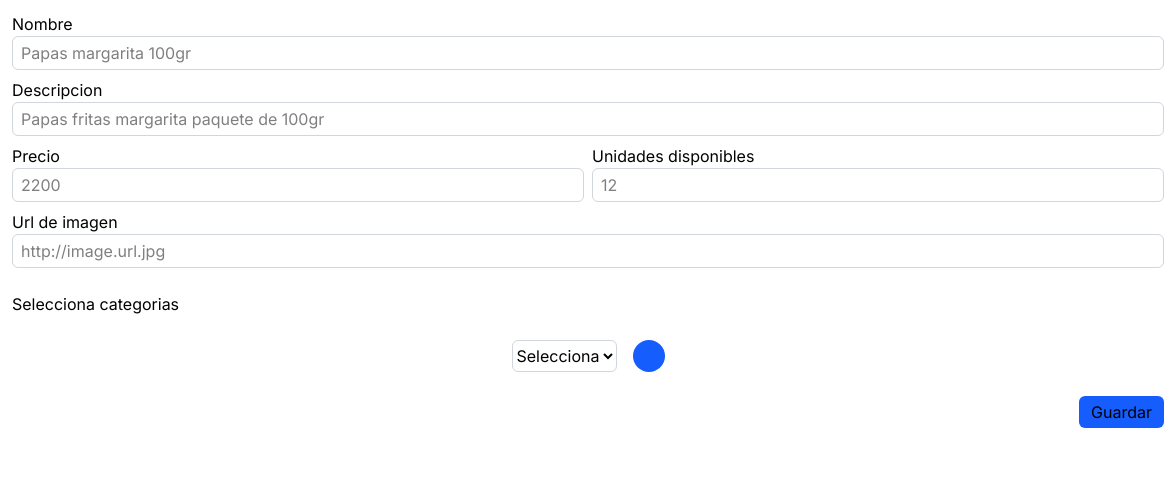
Test case: Create new product component › should show error when name has more than 50 characters
Step 1. Type "Lorem ipsum dolor sit amet, consectetur adipiscing elit, sed do eiusmod tempor incididunt ut labore et dolore magna aliqua. Ut enim ad minim veniam, quis nostrud exercitation ullamco laboris nisi ut a" into the field with test id "input-name" → point(588, 53), box 12,36 -> 1164,70
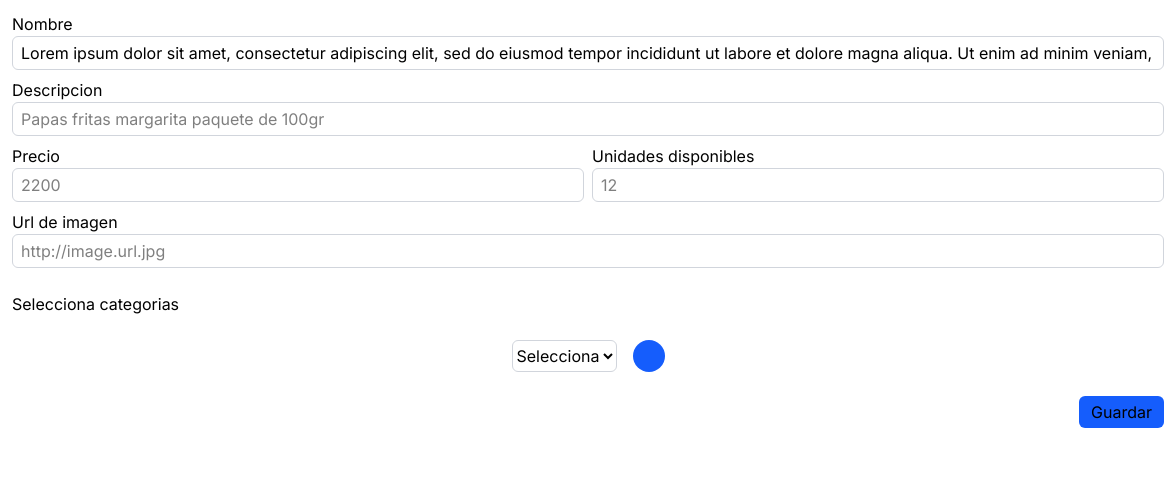
Step 2. Submit the form with test id "form"
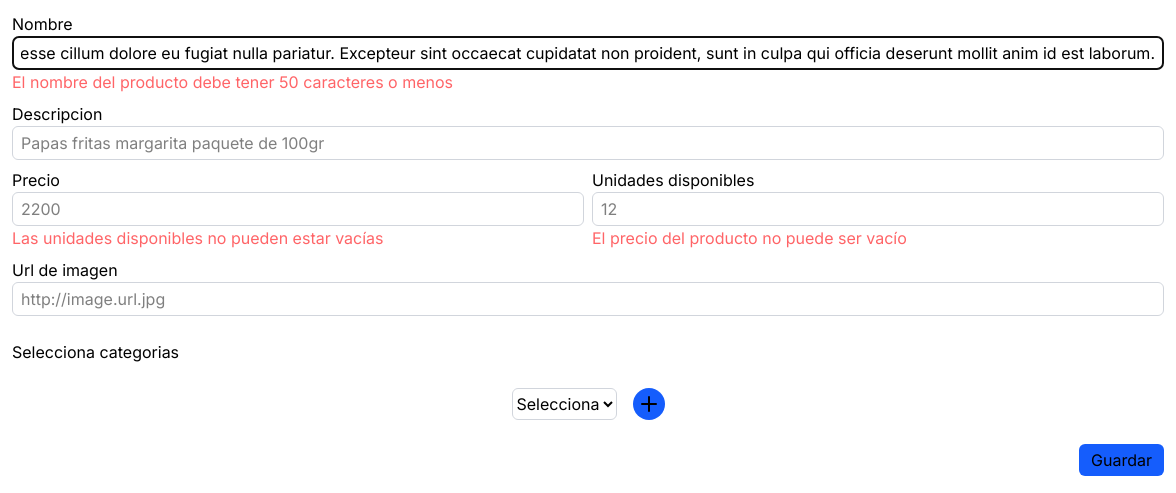
expect the text "El nombre del producto debe tener 50 caracteres o menos" is shown: met, box 12,72 -> 453,92
